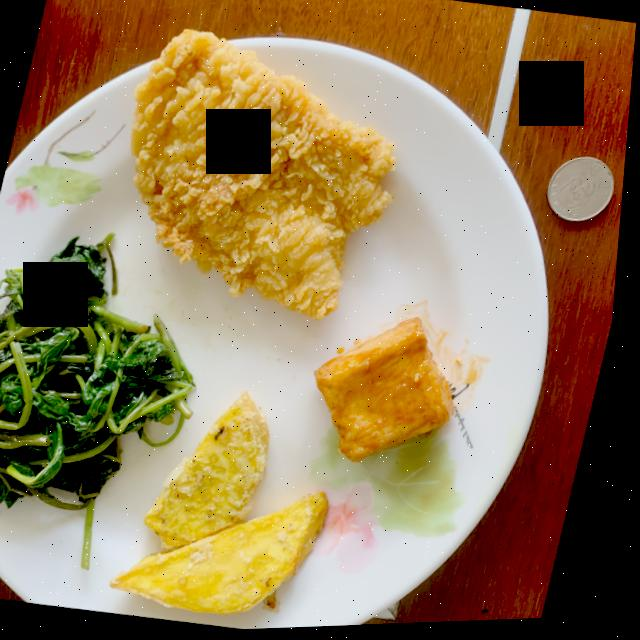coin: (551, 162, 618, 226)
creamy tofu: (321, 321, 461, 465)
fried chicken cutlet: (133, 31, 399, 322)
sweet potato leaves: (0, 235, 202, 531)
